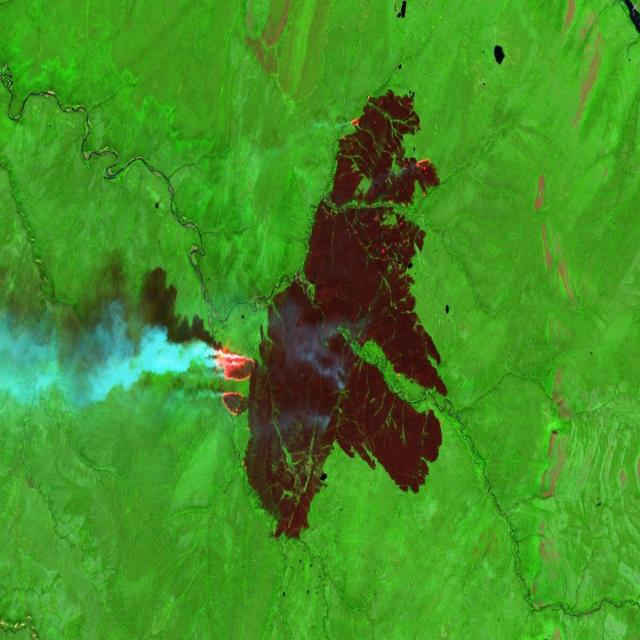fire: (205, 336, 257, 429), (396, 153, 436, 186)
